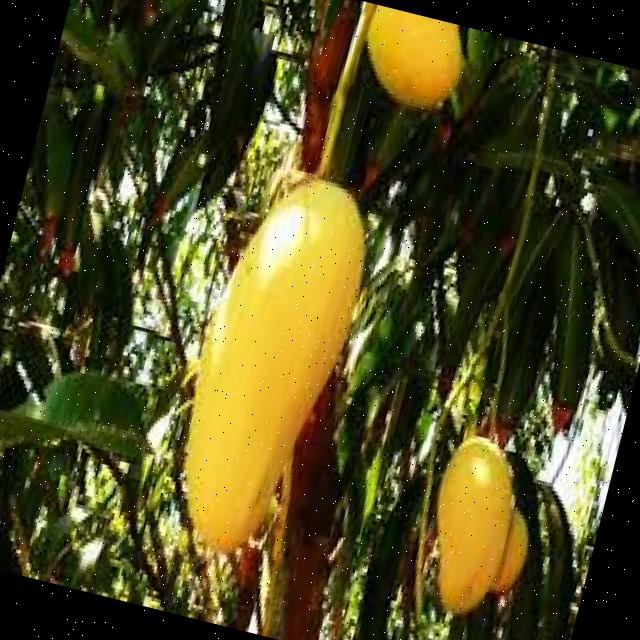mango: (185, 171, 367, 555)
